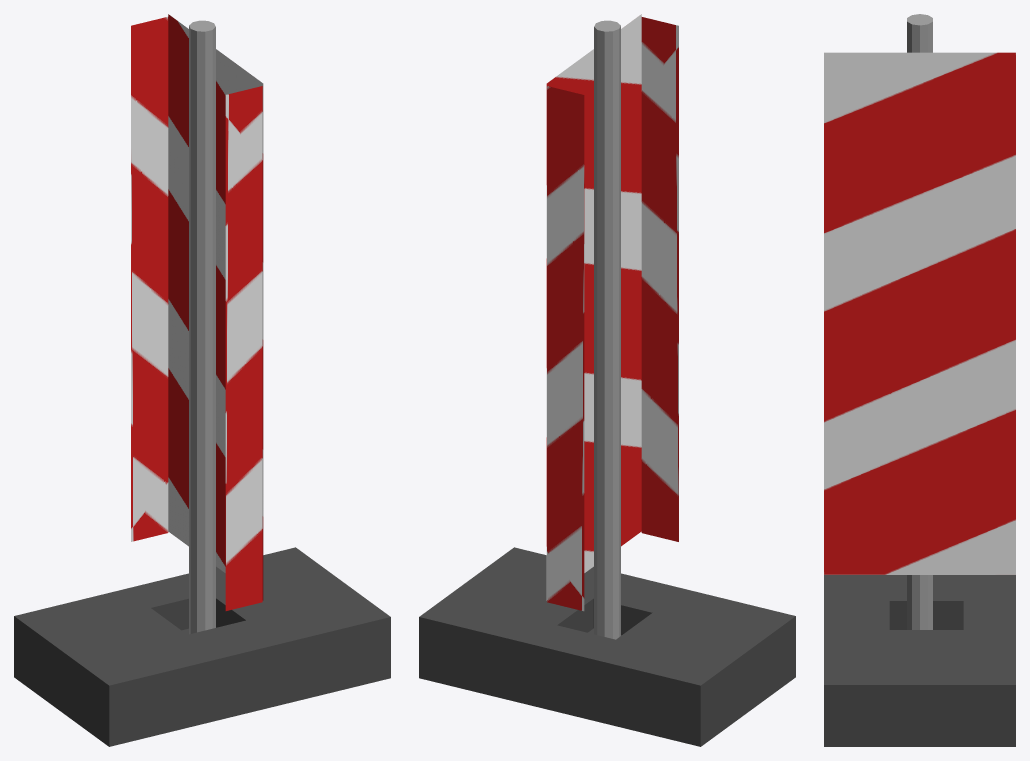
Rendered from absperrung_03.fbx.
3 renders of one model, left to right at view 1: azimuth 30°, elevation 25°; view 2: azimuth 150°, elevation 25°; view 3: azimuth 270°, elevation 25°, orthographic.
Visible parts, largest first — view 1: fuss, sign_side_1, sign_side_2, sign_front, stange; view 2: fuss, sign_side_1, sign_side_2, sign_front, stange; view 3: sign_front, fuss, stange.
Boxes of the visible parts, x1,y1,x2,y2 form: fuss: (14,547,390,746); sign_side_1: (225,86,262,610); sign_side_2: (131,16,168,541); sign_front: (168,14,263,600); stange: (189,20,215,634); fuss: (419,547,795,746); sign_side_1: (641,17,678,541); sign_side_2: (547,86,584,611); sign_front: (546,14,641,600); stange: (594,20,620,639); sign_front: (824,52,1015,574); fuss: (824,575,1015,746); stange: (907,14,932,629).
Bounding box in the file's own units: 1.71 × 3.78 × 1.
3 materials, 1 textured.
